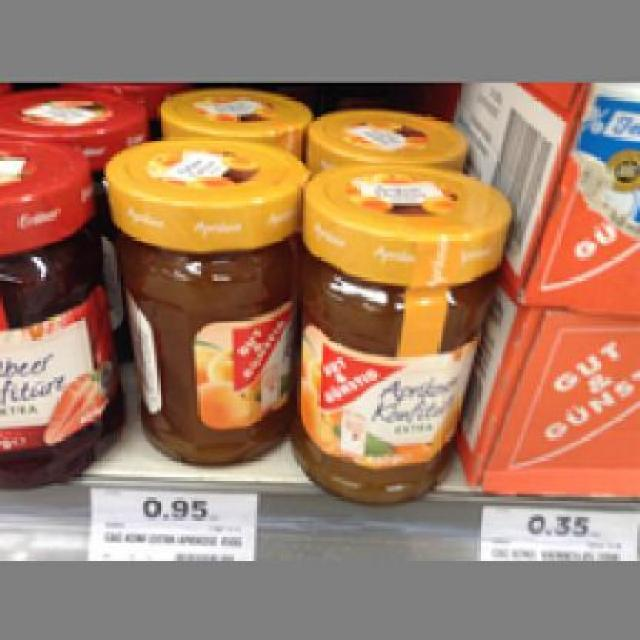Jam: (297, 157, 514, 506), (103, 130, 303, 463), (0, 133, 126, 490)
